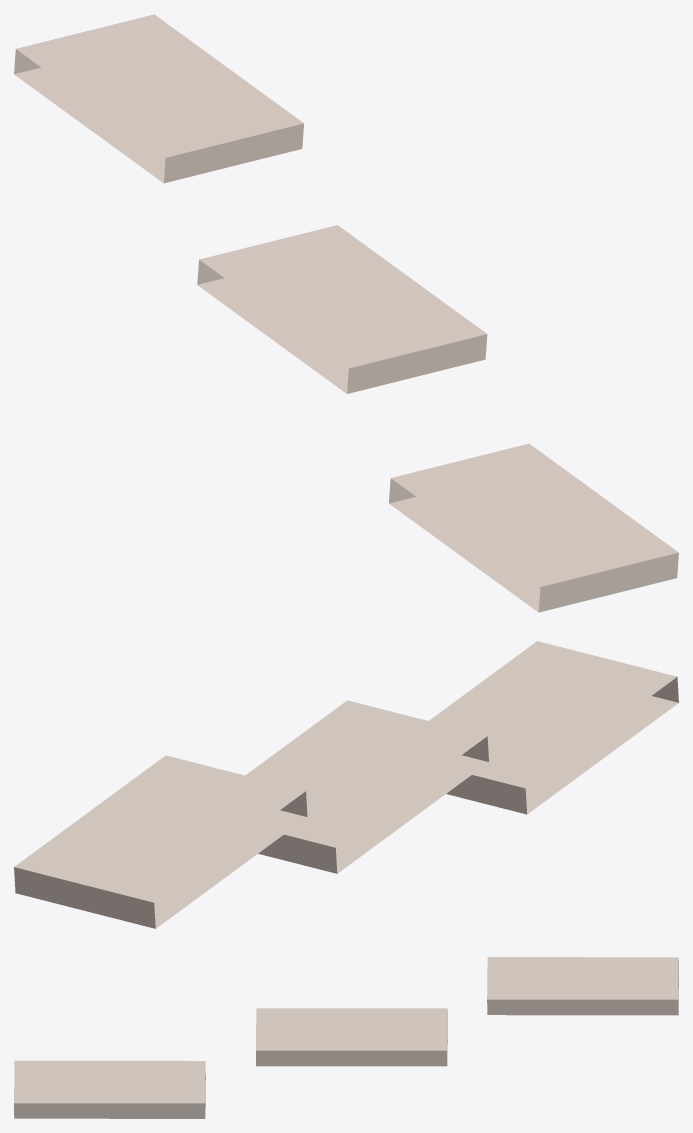
The model's file is Living_Room_shelves.fbx.
3 views of the same model, one above another, from view 1: azimuth 30°, elevation 25°; view 2: azimuth 150°, elevation 25°; view 3: azimuth 270°, elevation 25° (orthographic). The views are drawn at different scales.
Visible parts, largest first — view 1: Living_Room_shelves; view 2: Living_Room_shelves; view 3: Living_Room_shelves.
Boxes of the visible parts, bbox=[...] form: Living_Room_shelves: bbox=[14, 14, 678, 612]; Living_Room_shelves: bbox=[14, 641, 678, 928]; Living_Room_shelves: bbox=[14, 957, 678, 1118].
Size of the model in its own units: 33.39 by 40.97 by 207.
